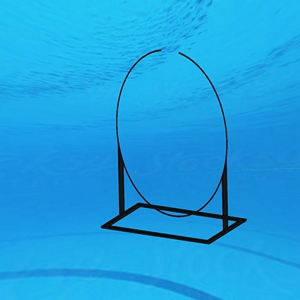circle: (100, 46, 250, 246)
